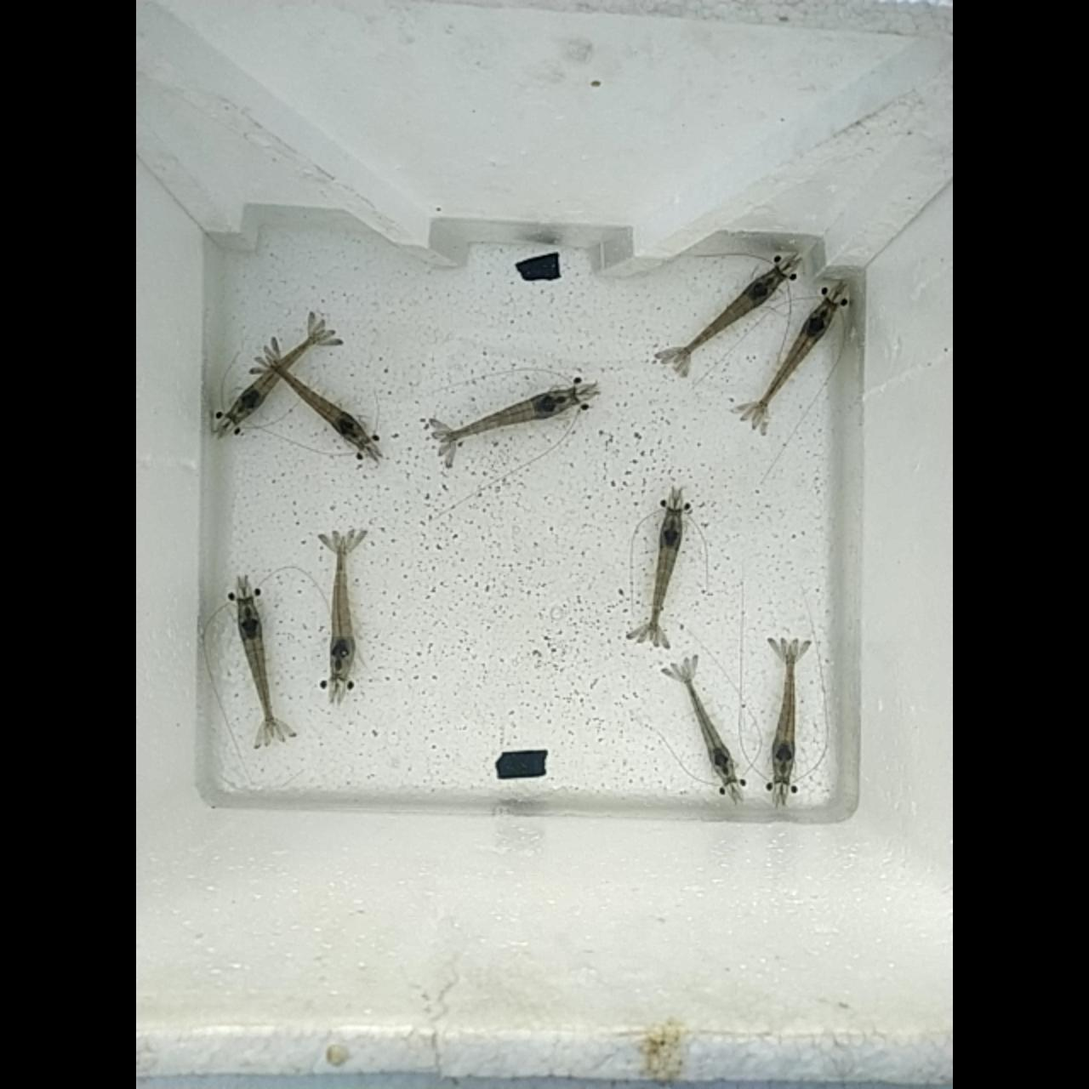box: (497, 750, 544, 778), (519, 254, 556, 277)
top_shrimp: (674, 269, 781, 359), (752, 301, 835, 413), (266, 356, 368, 445), (230, 329, 326, 420), (442, 391, 577, 441), (681, 669, 733, 778), (238, 604, 276, 733), (648, 510, 681, 635), (771, 648, 795, 779), (330, 539, 352, 676)
